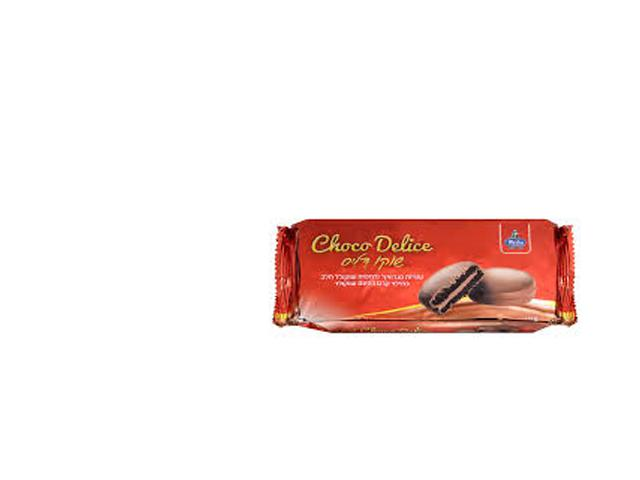chocolate: (269, 216, 581, 359)
